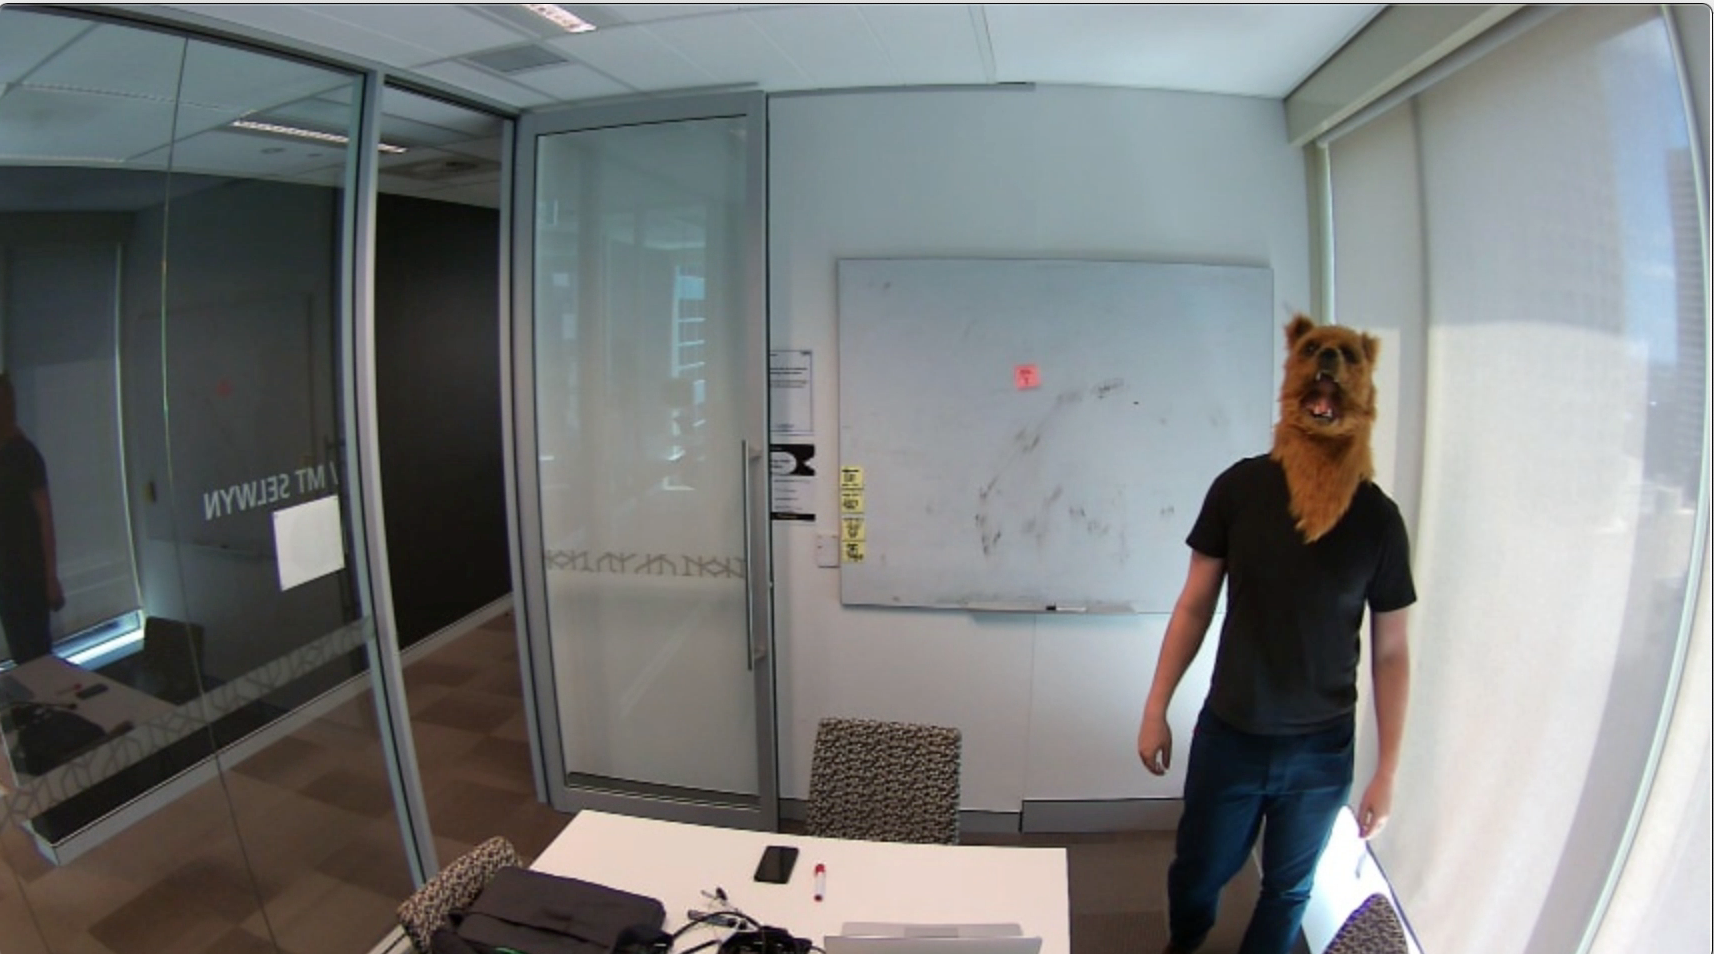Bear: (1279, 309, 1384, 475)
